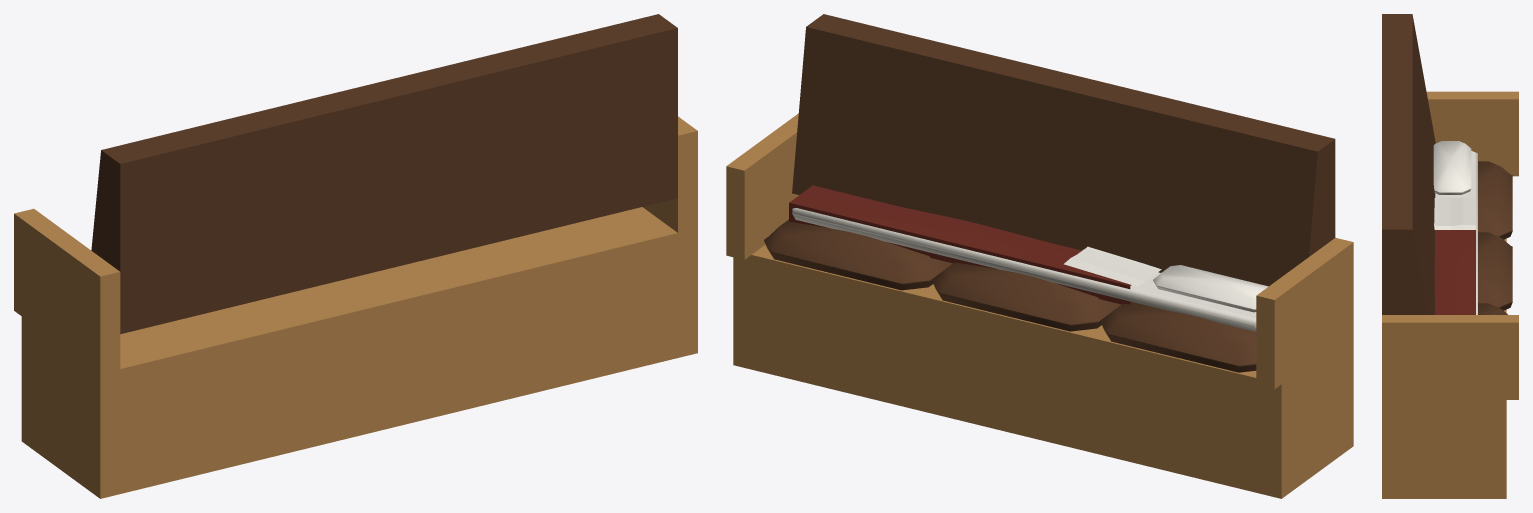
3 views of the same model, side by side, from view 1: azimuth 30°, elevation 25°; view 2: azimuth 150°, elevation 25°; view 3: azimuth 270°, elevation 25° (orthographic). The views are drawn at different scales.
Parts seen in each view (by area): view 1: parametric-variant-settee-3rd-652f813857f56ff200a6; view 2: parametric-variant-settee-3rd-652f813857f56ff200a6; view 3: parametric-variant-settee-3rd-652f813857f56ff200a6.
Boxes of the visible parts, x1,y1,x2,y2 form: parametric-variant-settee-3rd-652f813857f56ff200a6: (14,14,697,498); parametric-variant-settee-3rd-652f813857f56ff200a6: (726,14,1353,498); parametric-variant-settee-3rd-652f813857f56ff200a6: (1382,14,1518,498).
Bounding box in the file's own units: 1.8 × 0.95 × 0.45.
